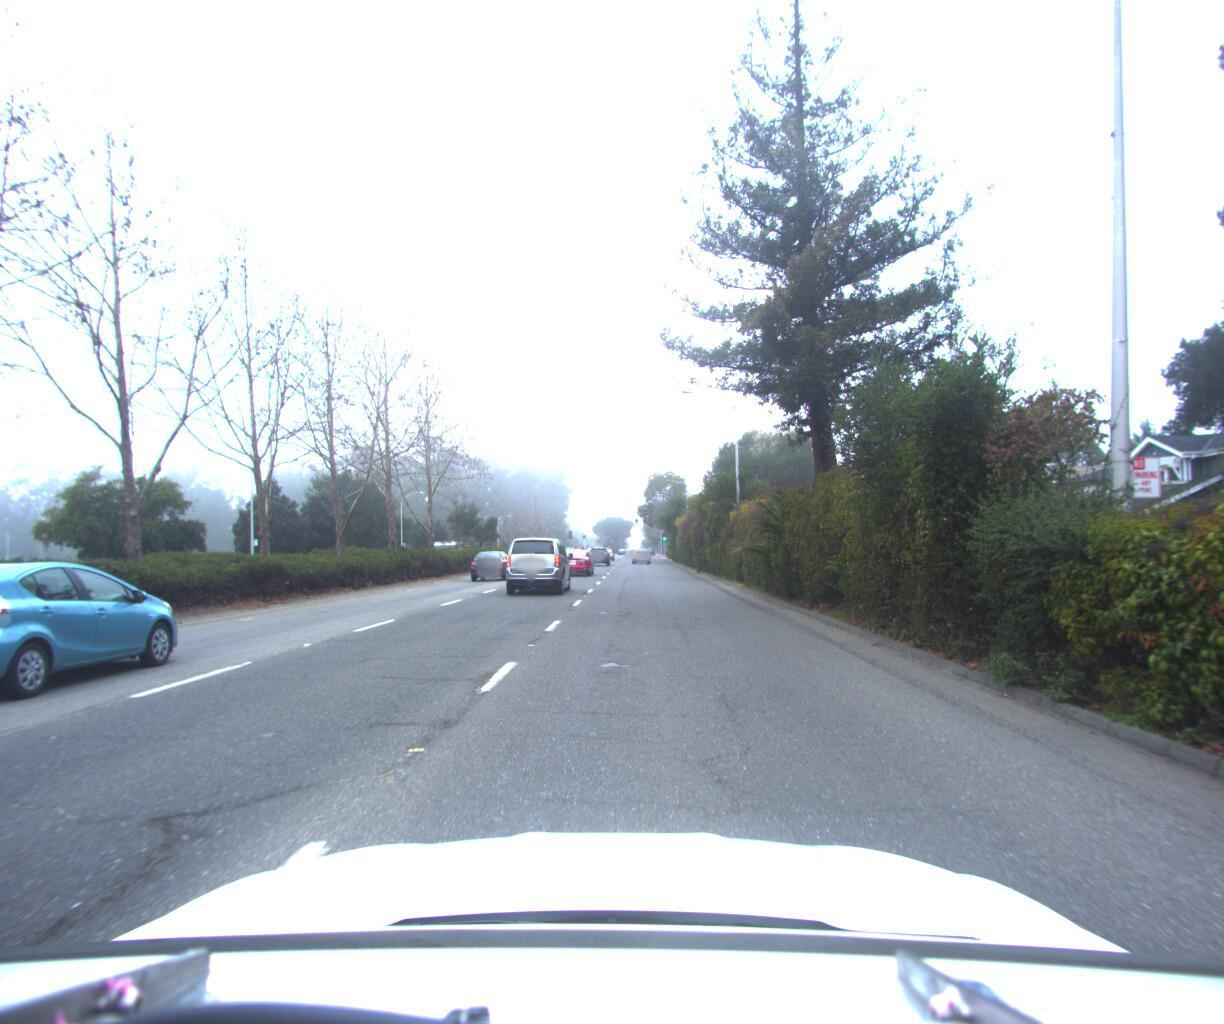car: (0, 555, 213, 709), (496, 531, 574, 594), (466, 545, 518, 578), (556, 542, 596, 571), (588, 539, 612, 559), (630, 538, 650, 557)
